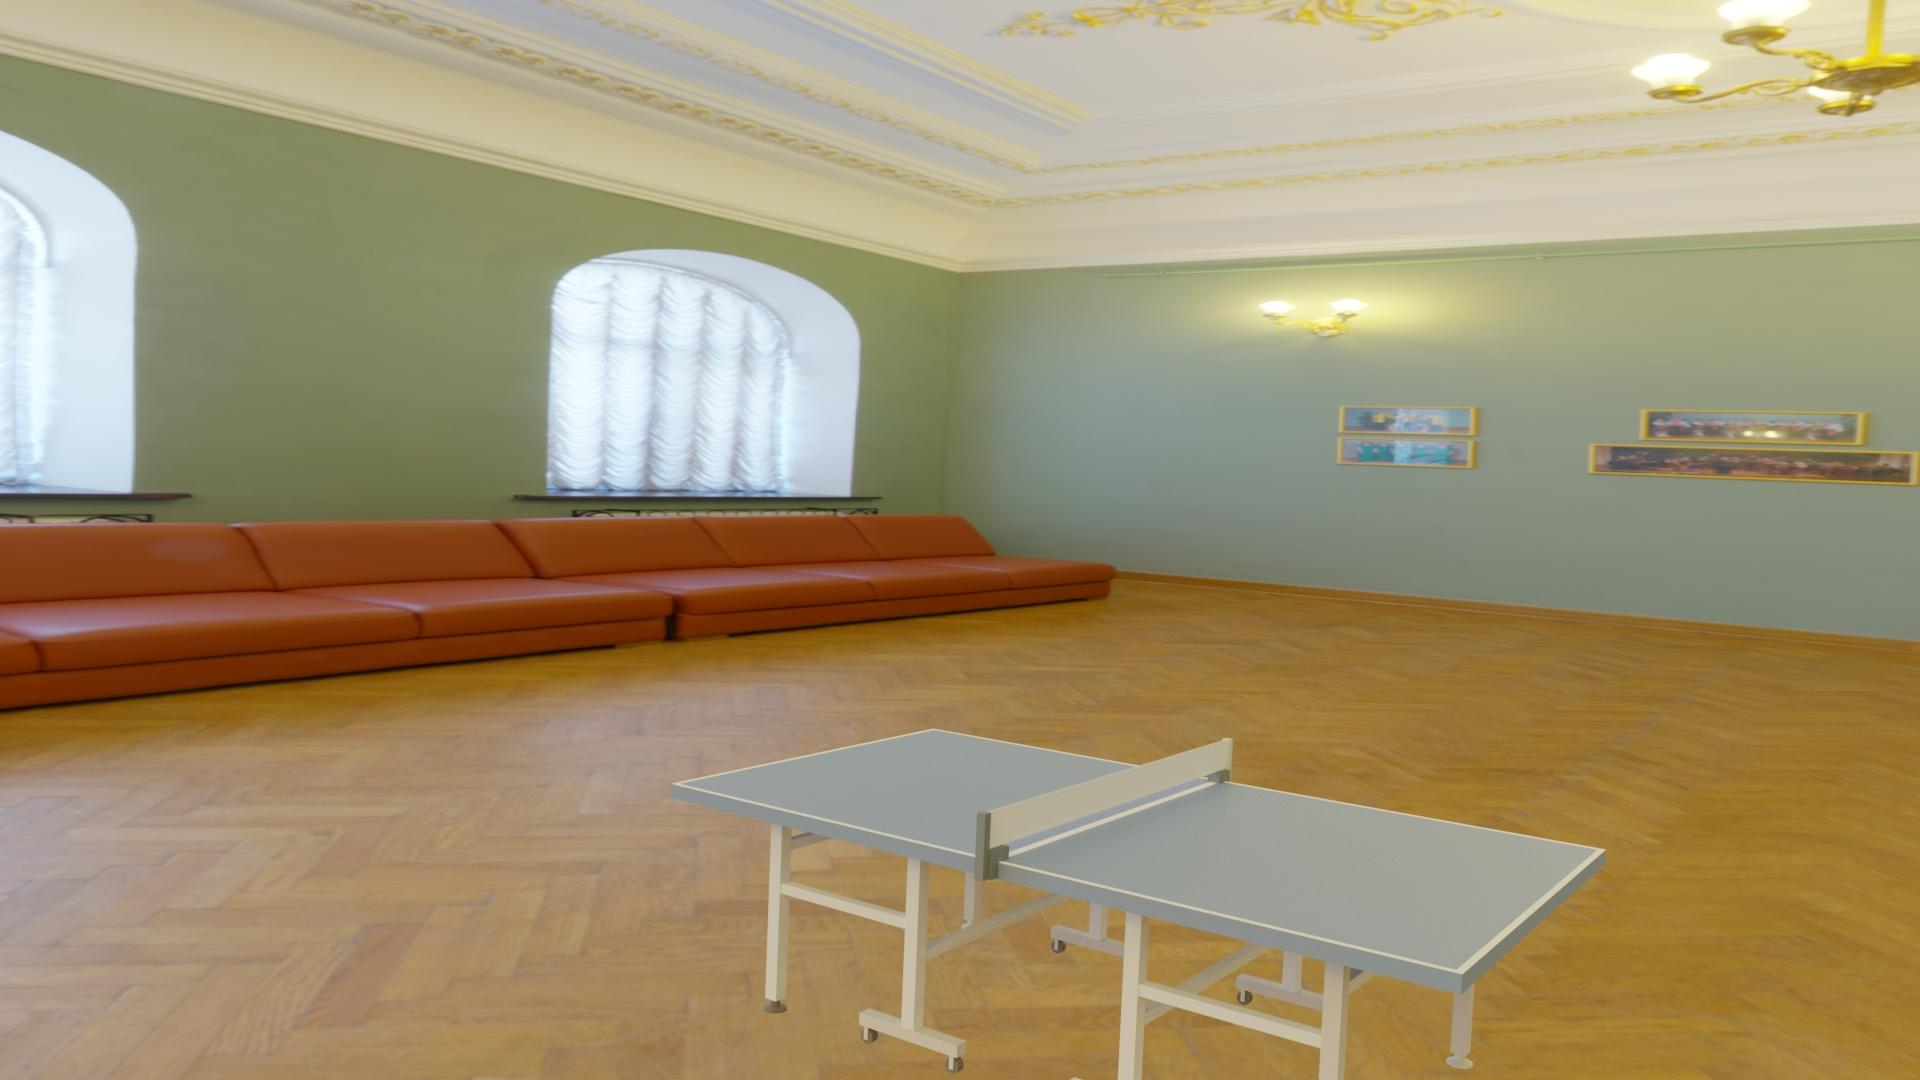table: (679, 731, 1598, 971)
